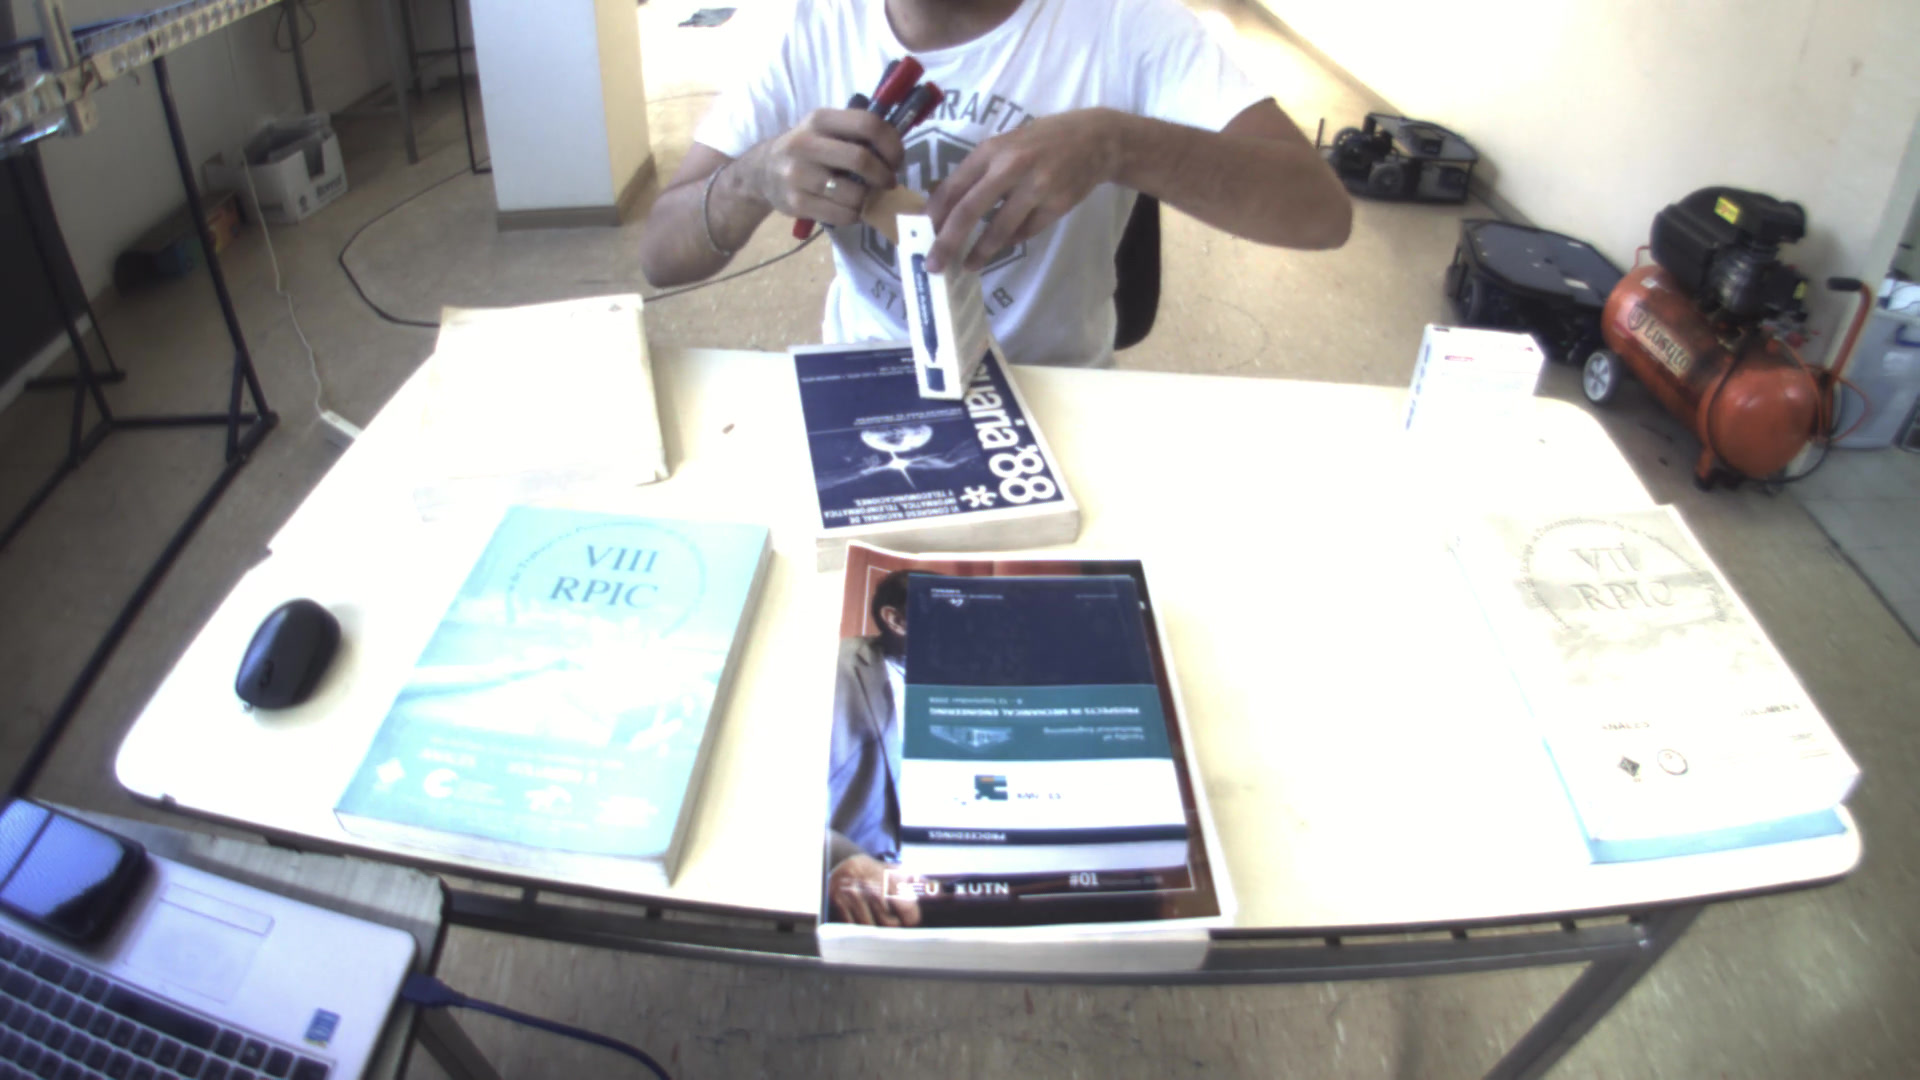hand: (922, 104, 1101, 266), (723, 94, 909, 237)
